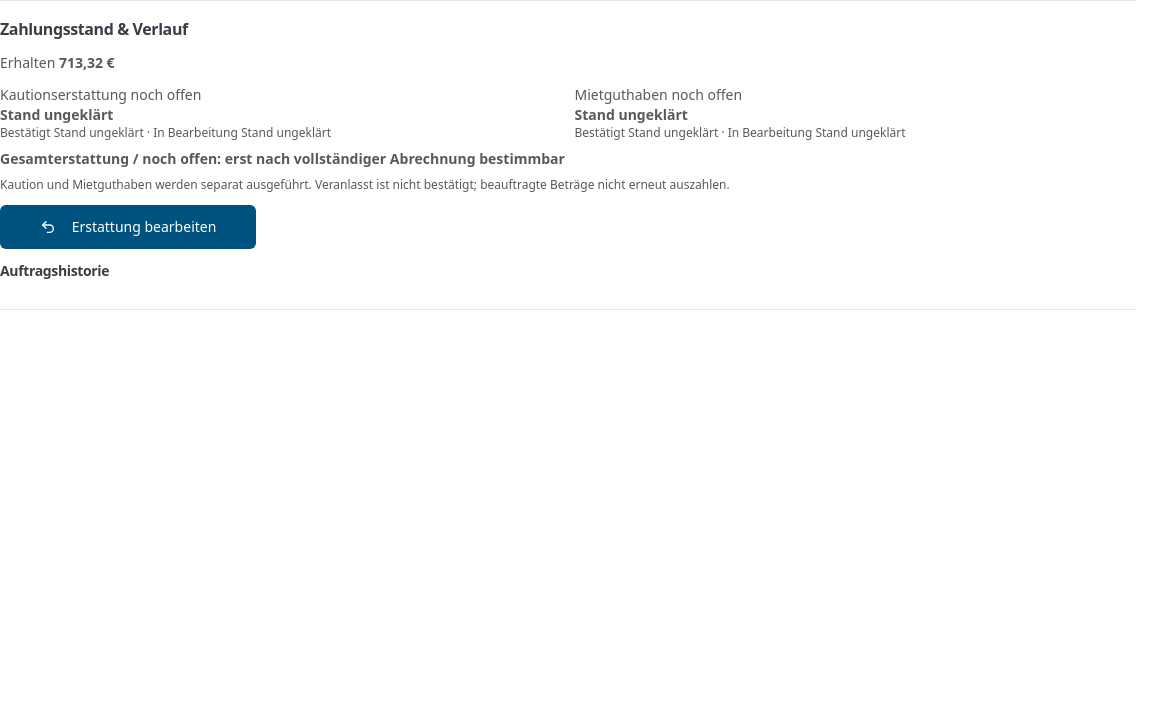
fully repaid deposit does not strand the 19.40 rent action
Click the button "Erstattung bearbeiten" at (128, 227), box [0,205,256,249]
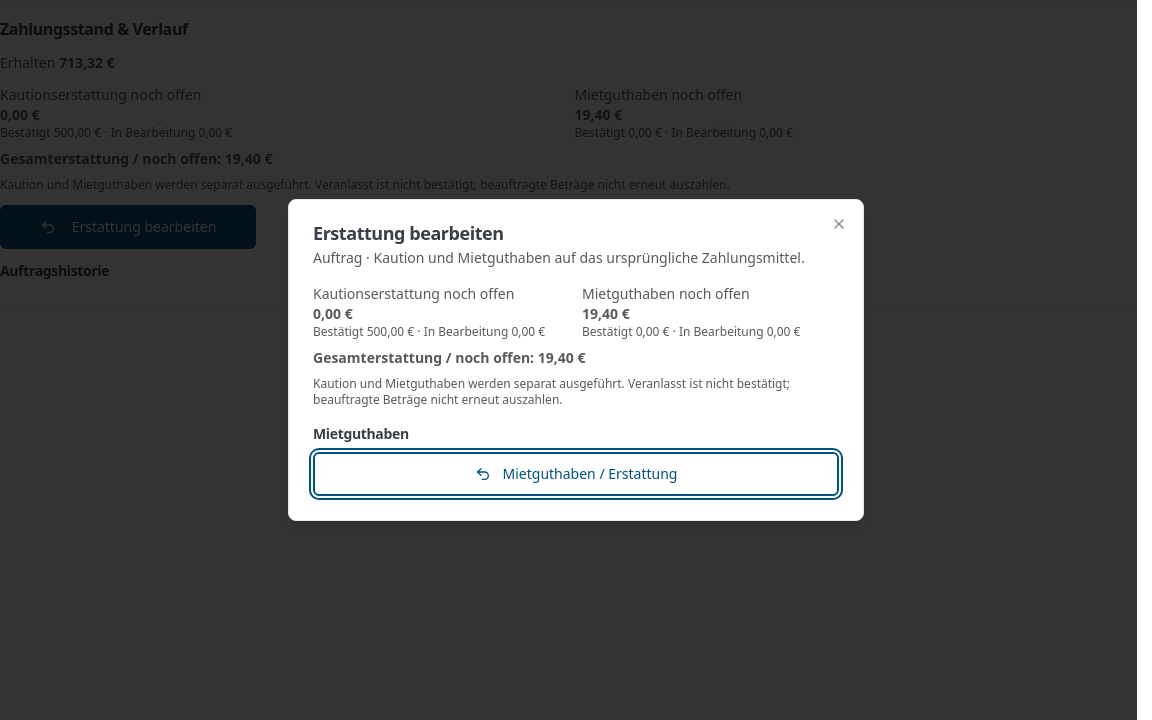
Expected: the button "Mietguthaben / Erstattung" is enabled, [313,452,839,496]
